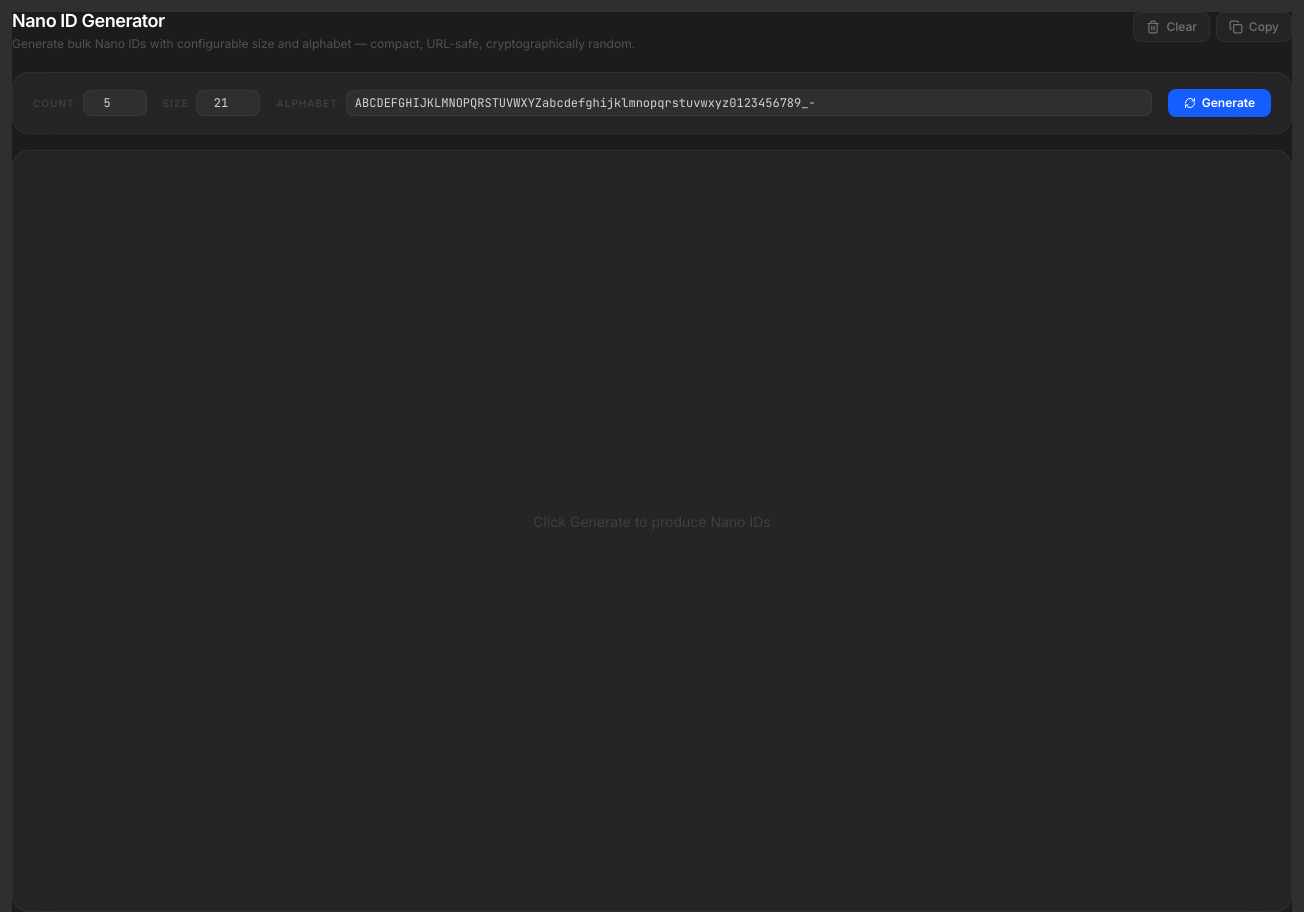
NanoIdGenerator › clears the list
Click the button "Generate": (1219, 103) [1168,89,1271,117]
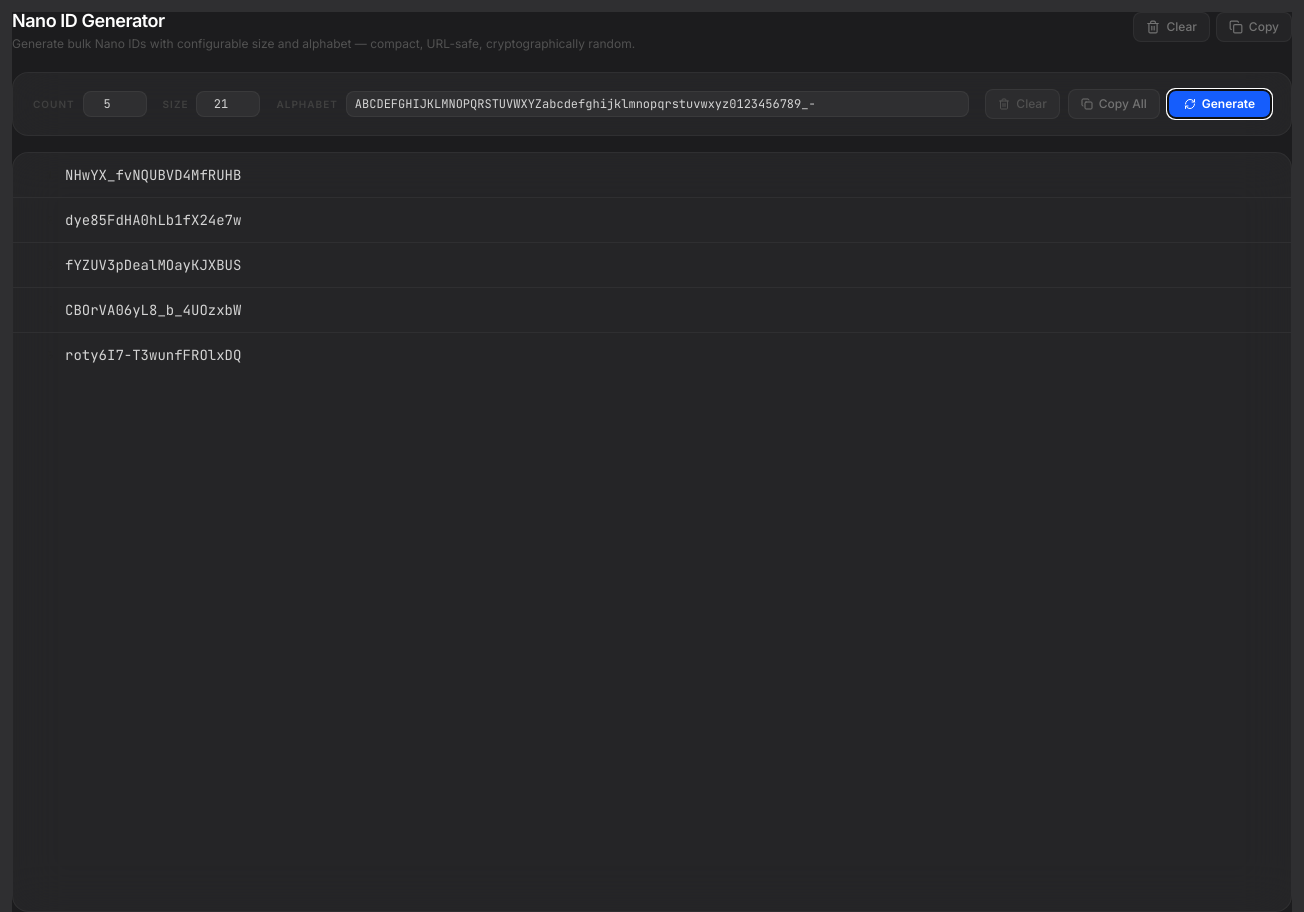
Click the button titled "Clear all" in the row of "Nano ID Generator": (1172, 27) [1133,12,1210,42]
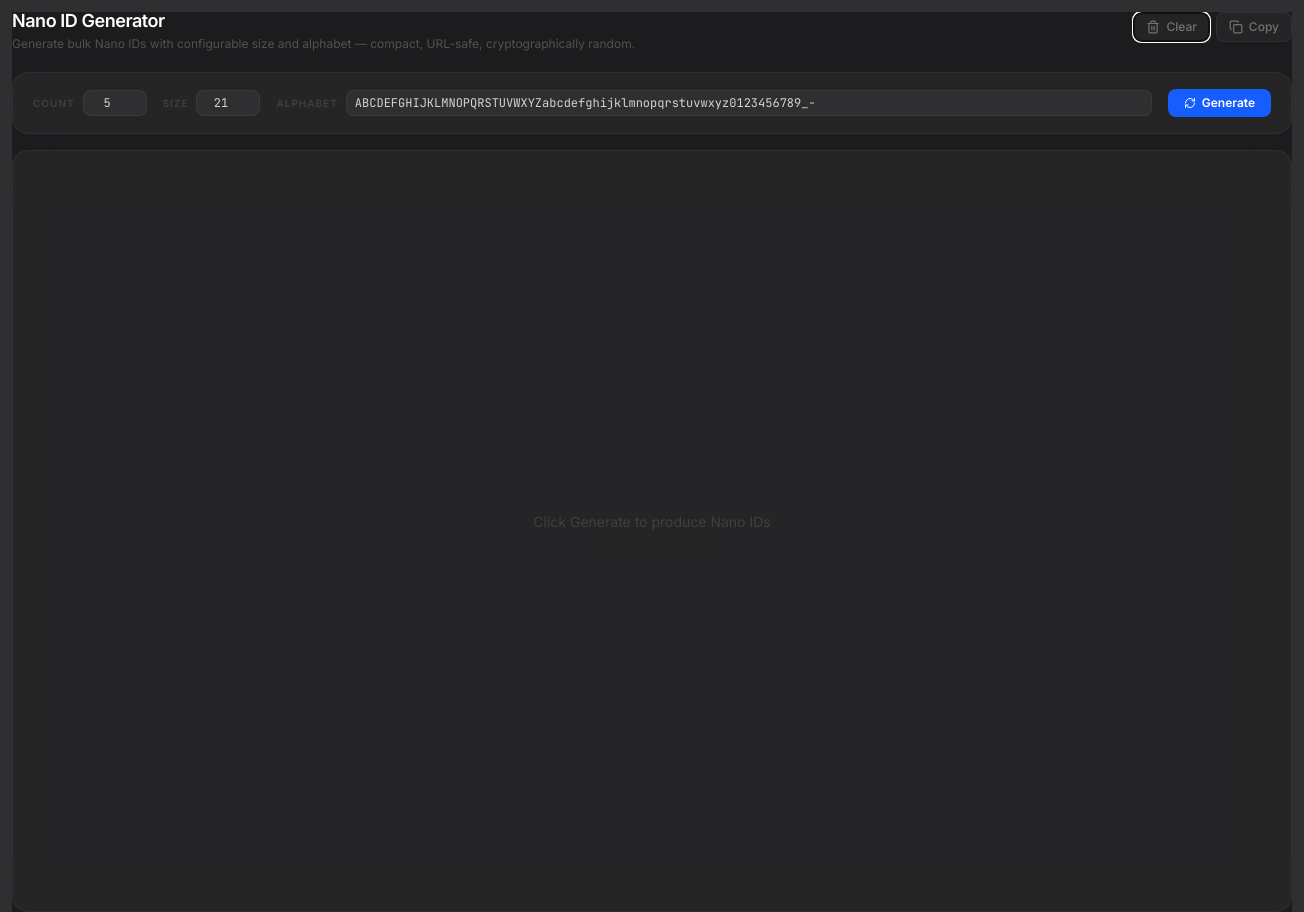
expect the text "Click Generate to produce Nano IDs" is shown: met, box [533,512,771,532]
